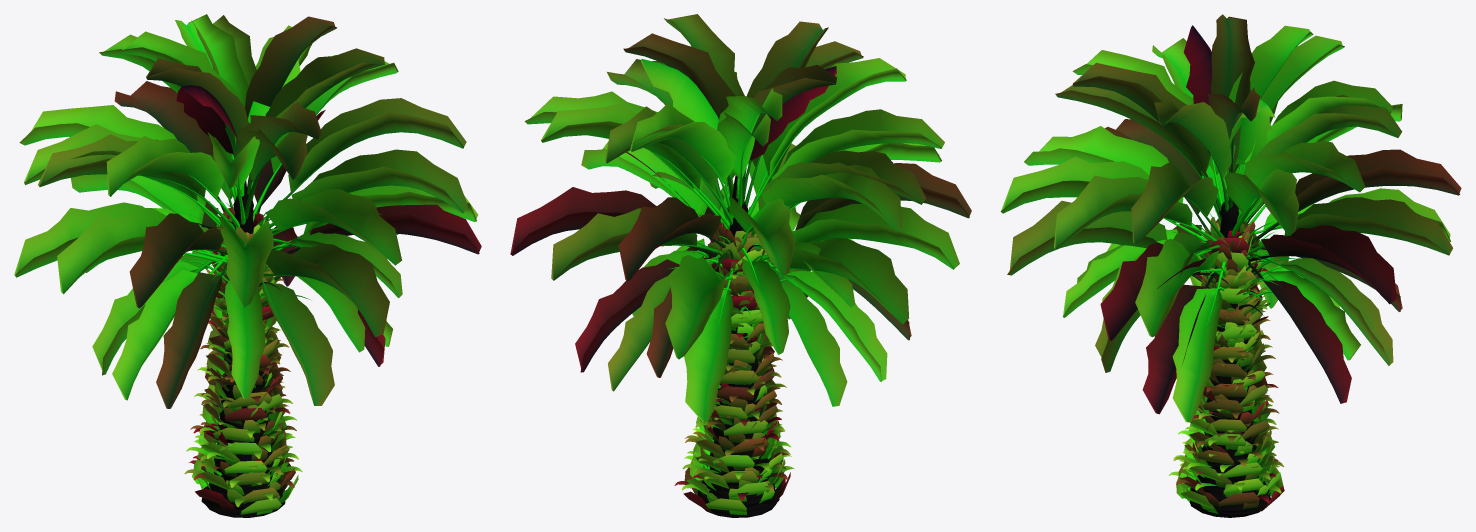
Rendered from HP_Palm3_1.fbx.
3 views of the same model, side by side, from view 1: azimuth 30°, elevation 25°; view 2: azimuth 150°, elevation 25°; view 3: azimuth 270°, elevation 25° (orthographic). The views are drawn at different scales.
Visible parts, largest first — view 1: _1; view 2: _1; view 3: _1.
Part boxes in pixels (box(x1,y1,x2,y2)): _1: box(14, 14, 481, 517); _1: box(510, 14, 971, 517); _1: box(1000, 14, 1461, 517).
Bounding box in the file's own units: 998 × 1090 × 1021.
